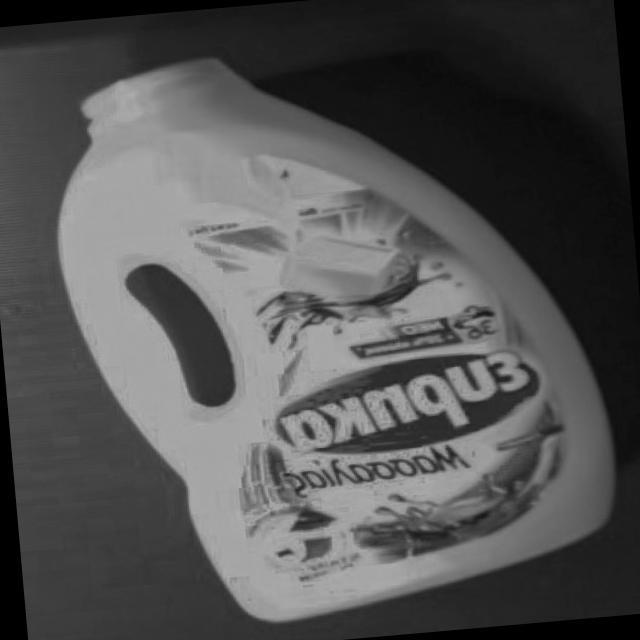HDPE Plastic: (48, 52, 622, 626)
